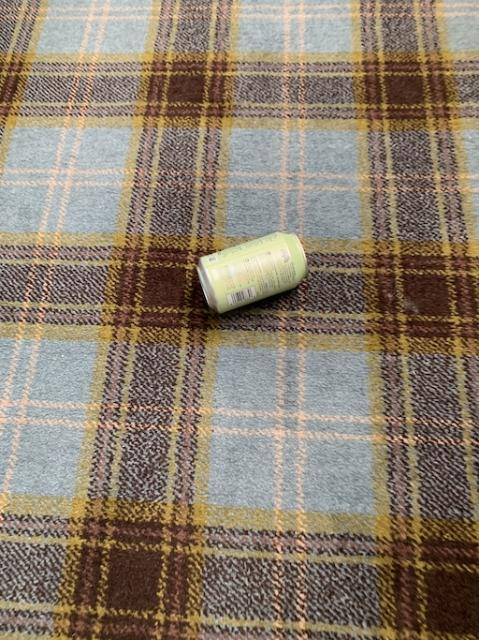metal: (197, 231, 306, 311)
